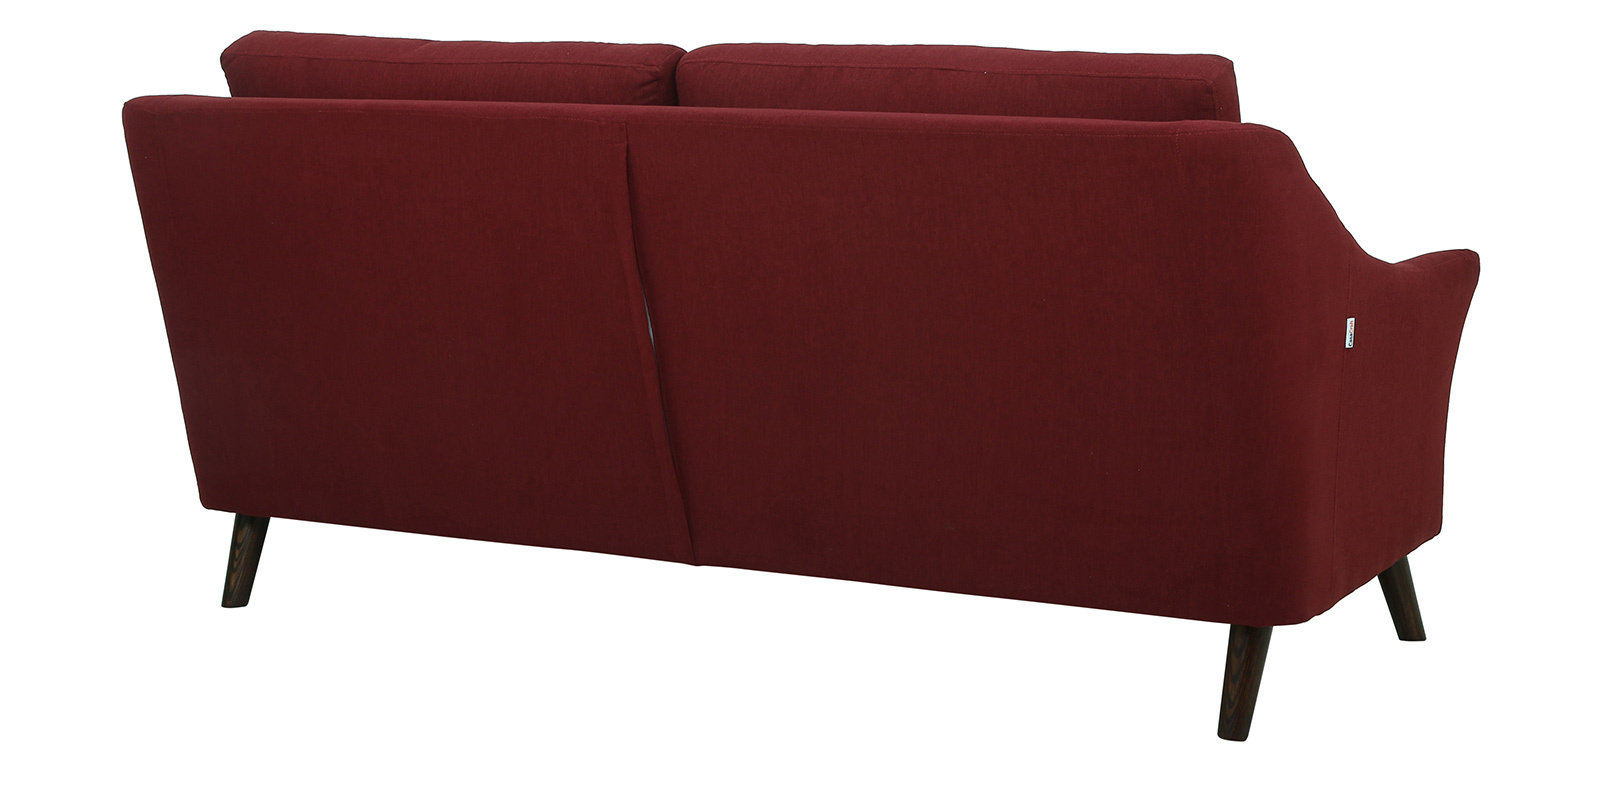Juan Three Seater Sofa in Garnet Red Colour by CasaCraft: (105, 13, 1506, 764)
